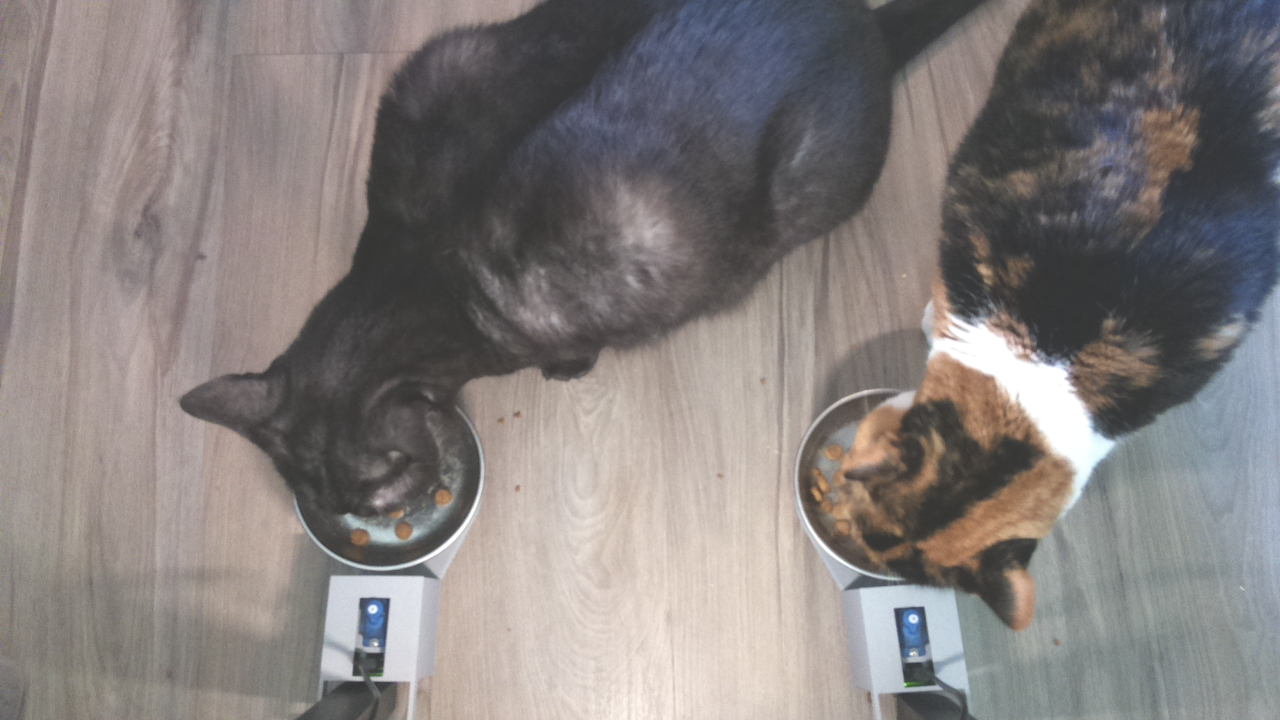bella_eating: (773, 339, 1109, 641)
saki_eating: (166, 287, 504, 589)
